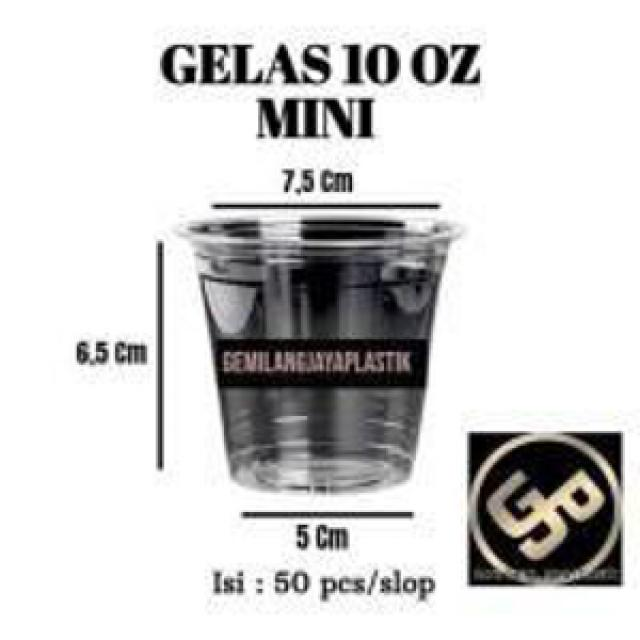plastic cup: (164, 202, 474, 506)
